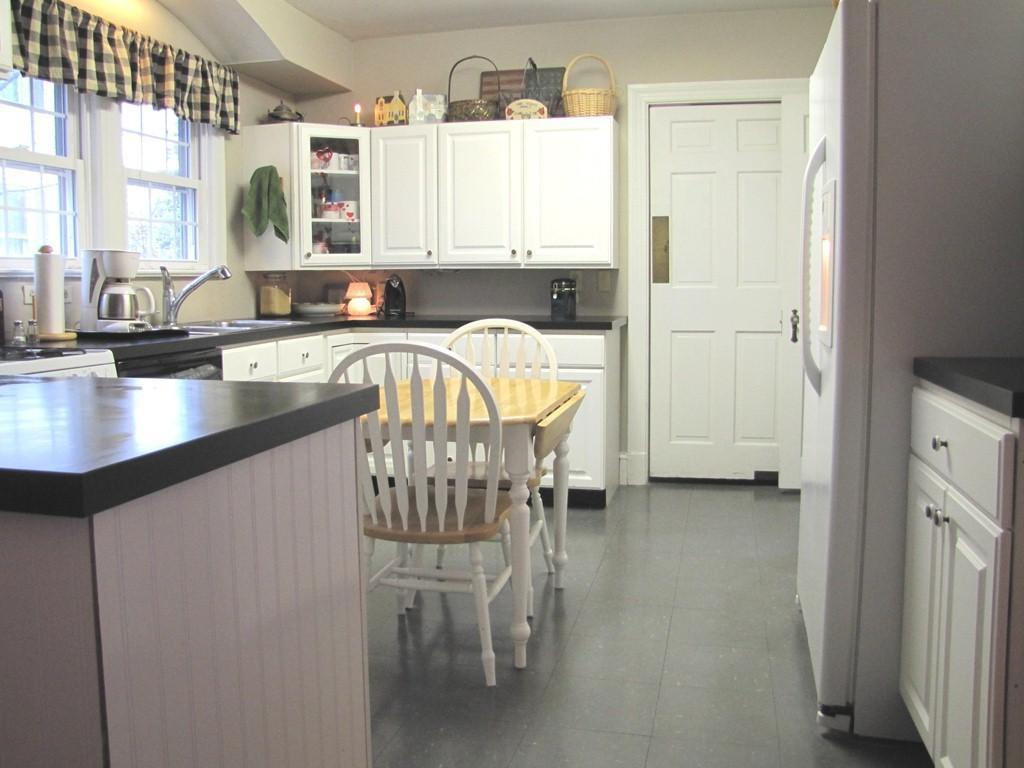door: (646, 104, 804, 478)
handle: (784, 304, 802, 347)
